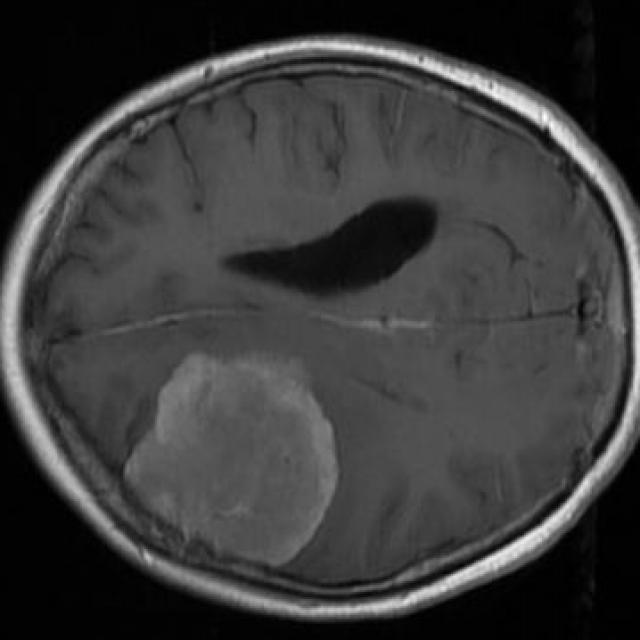meningioma: (125, 353, 335, 565)
